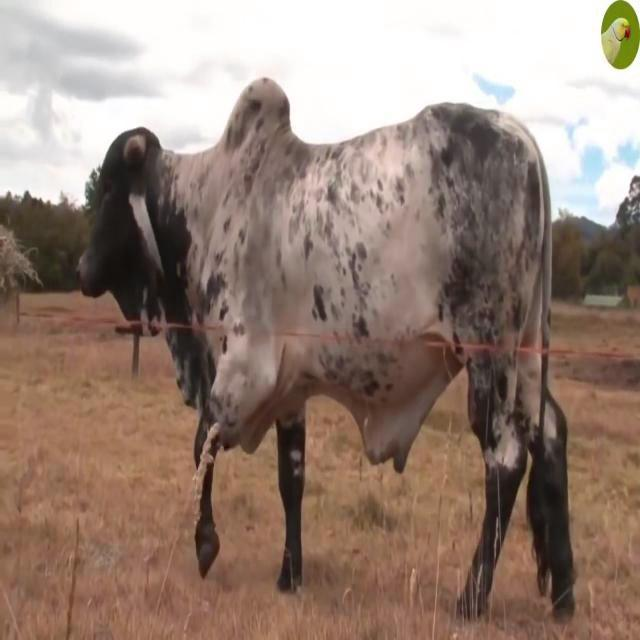cow: (79, 79, 571, 617)
